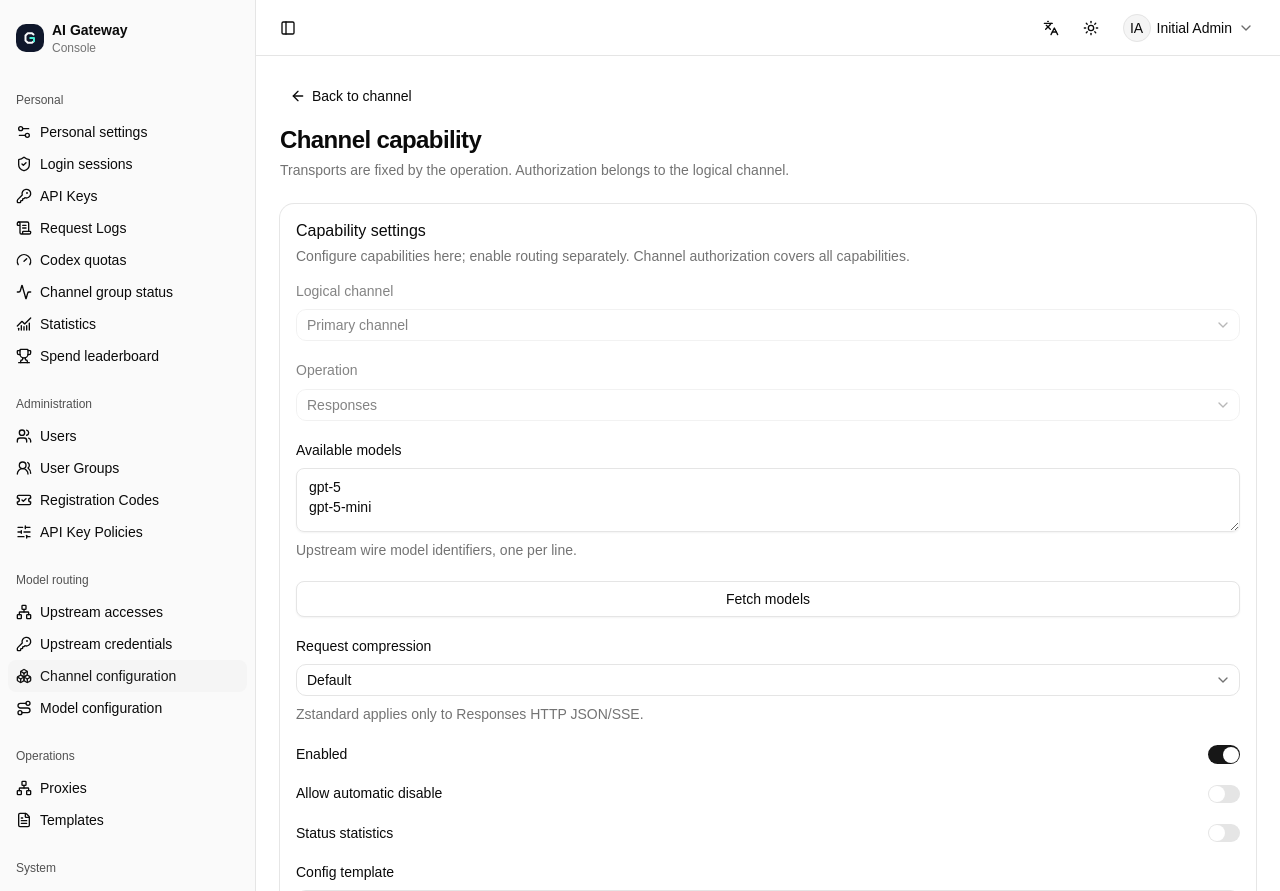
Scenario: channel capabilities › fetches models for a codex-credentialed channel through the shared discovery endpoint
The width and height of the screenshot is (1280, 891).
Click the button "Fetch models" at (768, 599), box x1=296 y1=581 x2=1240 y2=617
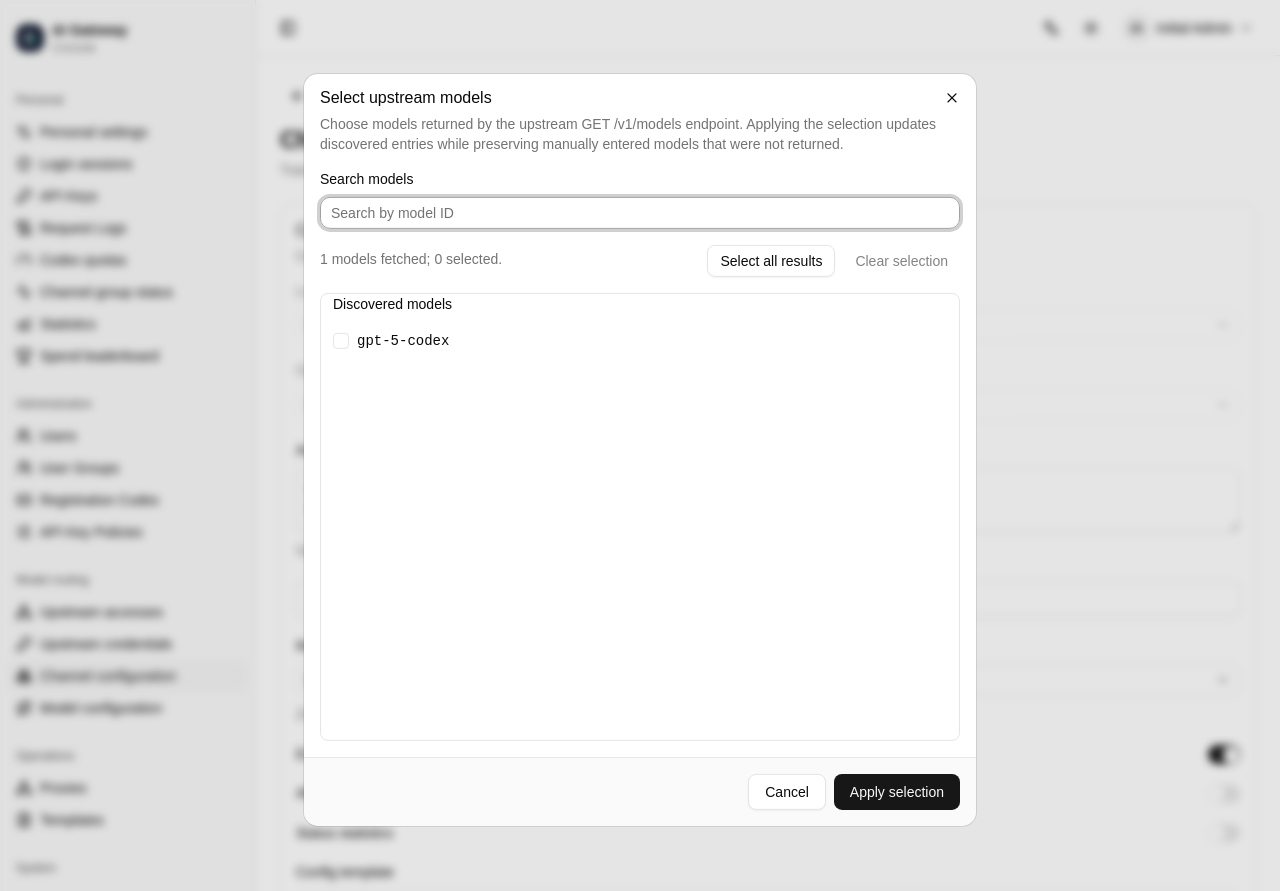
Expected: the checkbox named "Select gpt-5-codex" is shown, x1=333 y1=333 x2=349 y2=349
